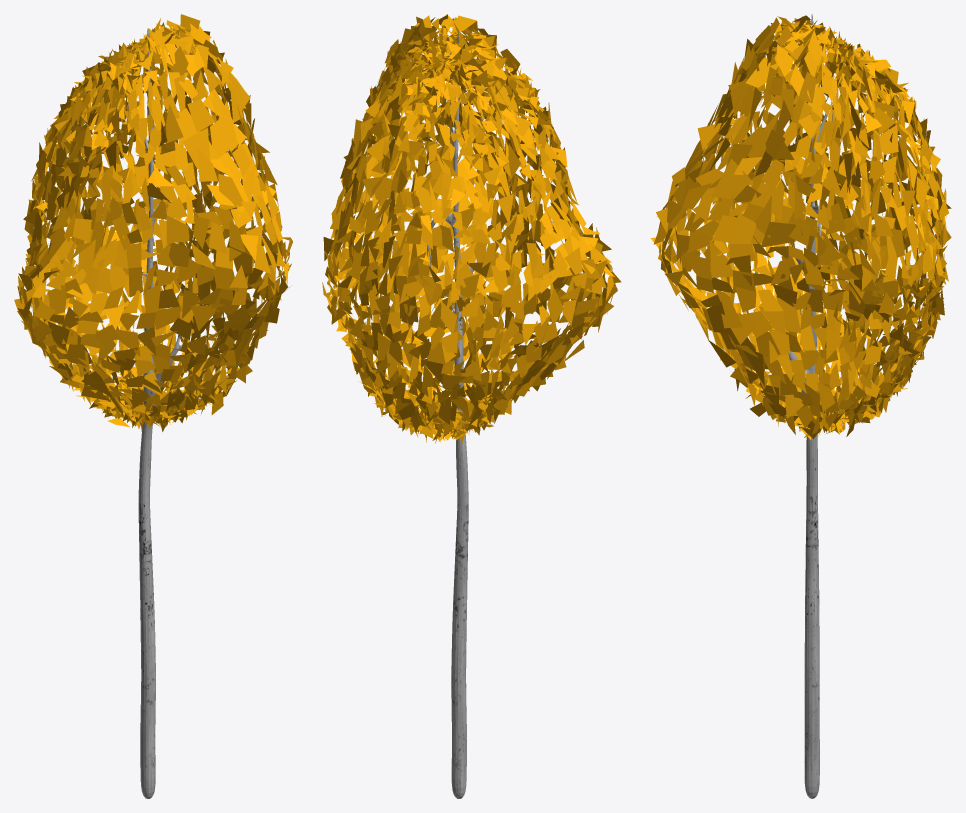
File: Leaves33.fbx
The picture shows the model from 3 angles, left to right: view 1: azimuth 30°, elevation 25°; view 2: azimuth 150°, elevation 25°; view 3: azimuth 270°, elevation 25°; orthographic projection. The views are drawn at different scales.
Parts seen in each view (by area): view 1: Leaves33; view 2: Leaves33; view 3: Leaves33.
Boxes of the visible parts, x1,y1,x2,y2 form: Leaves33: (14,14,292,798); Leaves33: (322,14,621,798); Leaves33: (650,14,951,798).
Bounding box in the file's own units: 859 × 2587 × 896.
Materials: 2 (1 with a texture image).
